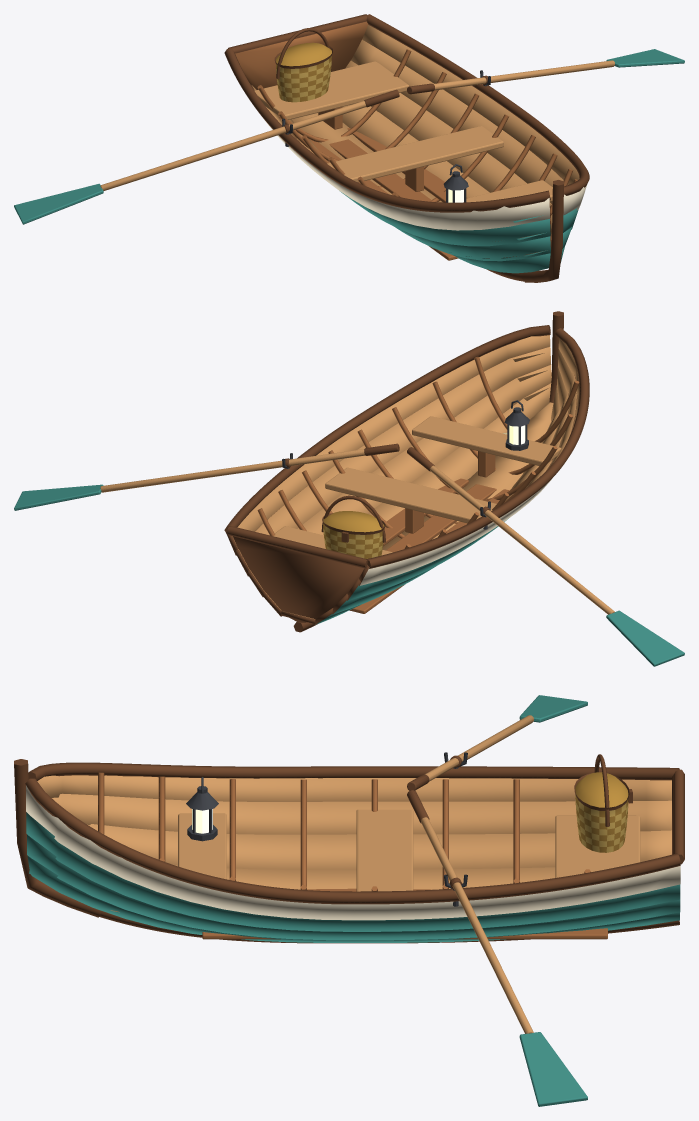
Rendered from Boat.fbx.
The picture shows the model from 3 angles, top to bottom: view 1: azimuth 30°, elevation 25°; view 2: azimuth 150°, elevation 25°; view 3: azimuth 270°, elevation 25°; orthographic projection. The views are drawn at different scales.
Visible parts, largest first — view 1: Boat, Oar_R, Oar_L; view 2: Boat, Oar_R, Oar_L; view 3: Boat, Oar_L, Oar_R.
Boxes of the visible parts, x1,y1,x2,y2 form: Boat: (224, 14, 589, 282); Oar_R: (14, 89, 399, 224); Oar_L: (407, 49, 684, 94); Boat: (224, 311, 589, 632); Oar_R: (407, 447, 684, 666); Oar_L: (14, 443, 399, 510); Boat: (14, 752, 684, 943); Oar_L: (407, 790, 587, 1106); Oar_R: (407, 695, 587, 790).
Size of the model in its own units: 4.77 by 0.9794 by 3.31.
